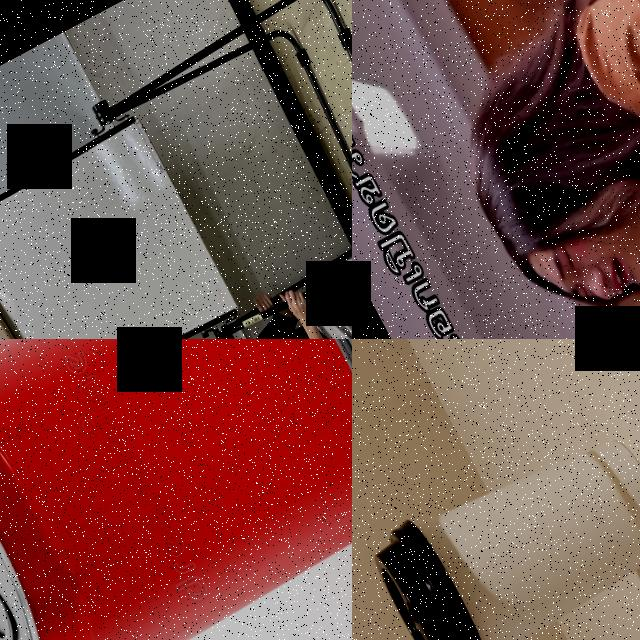can: (0, 339, 352, 640)
cup: (361, 411, 640, 640)
